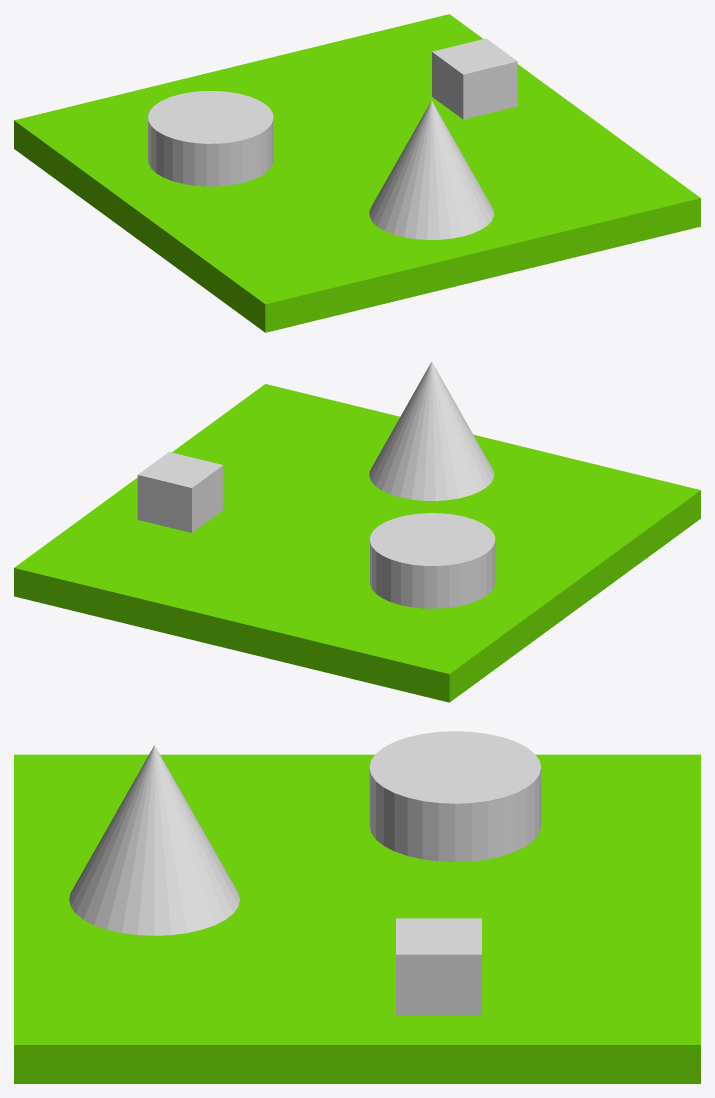
The model's file is BlockTypeMiddle-4.fbx.
3 views of the same model, one above another, from view 1: azimuth 30°, elevation 25°; view 2: azimuth 150°, elevation 25°; view 3: azimuth 270°, elevation 25° (orthographic). The views are drawn at different scales.
Parts seen in each view (by area): view 1: Cube, Cylinder, Cone, Cube.002; view 2: Cube, Cylinder, Cone, Cube.002; view 3: Cube, Cylinder, Cone, Cube.002.
Boxes of the visible parts, box(x1,y1,x2,y2) form: Cube: box(14, 14, 700, 332); Cylinder: box(148, 91, 273, 186); Cone: box(369, 100, 493, 239); Cube.002: box(432, 38, 517, 119); Cube: box(14, 384, 700, 702); Cylinder: box(370, 513, 495, 608); Cone: box(369, 361, 493, 500); Cube.002: box(137, 452, 223, 532); Cube: box(14, 754, 700, 1083); Cylinder: box(369, 731, 541, 861); Cone: box(69, 745, 239, 935); Cube.002: box(396, 918, 481, 1015).
Bounding box in the file's own units: 800 × 324 × 800.
